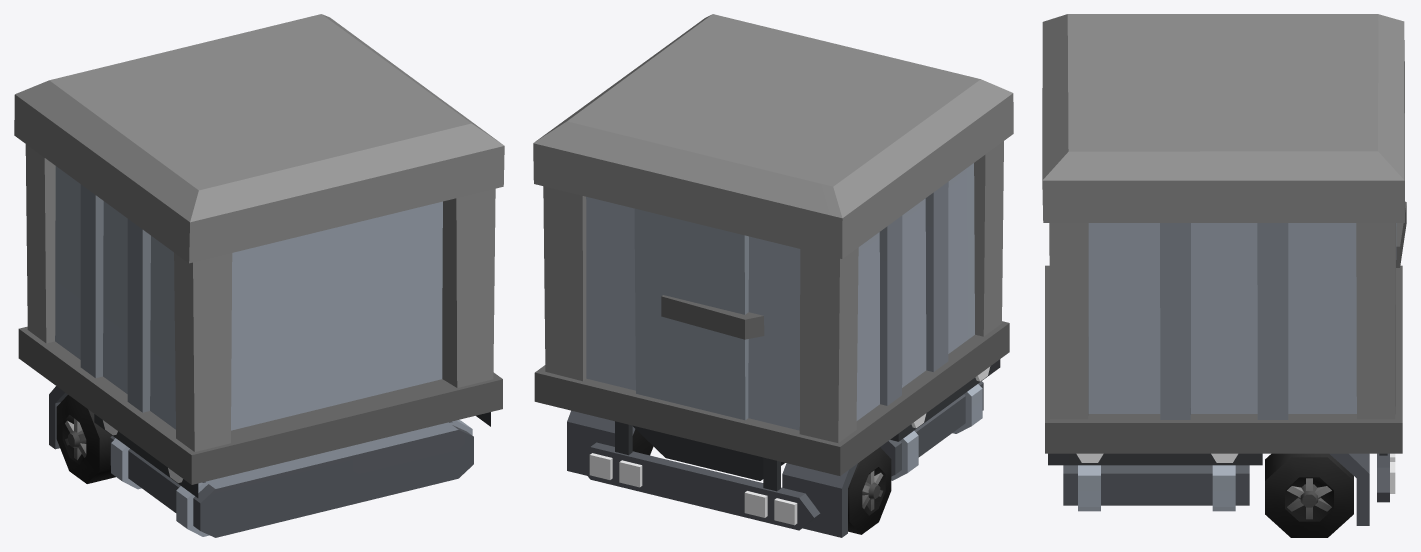
Rendered from cargo_01_A_1.fbx.
3 renders of one model, left to right at view 1: azimuth 30°, elevation 25°; view 2: azimuth 150°, elevation 25°; view 3: azimuth 270°, elevation 25°, orthographic. The views are drawn at different scales.
Parts seen in each view (by area): view 1: cargo_01_A_1; view 2: cargo_01_A_1; view 3: cargo_01_A_1.
Boxes of the visible parts, x1,y1,x2,y2 form: cargo_01_A_1: (14,14,504,537); cargo_01_A_1: (533,14,1013,537); cargo_01_A_1: (1042,14,1406,537).
Size of the model in its own units: 14.11 by 15.9 by 13.64.
